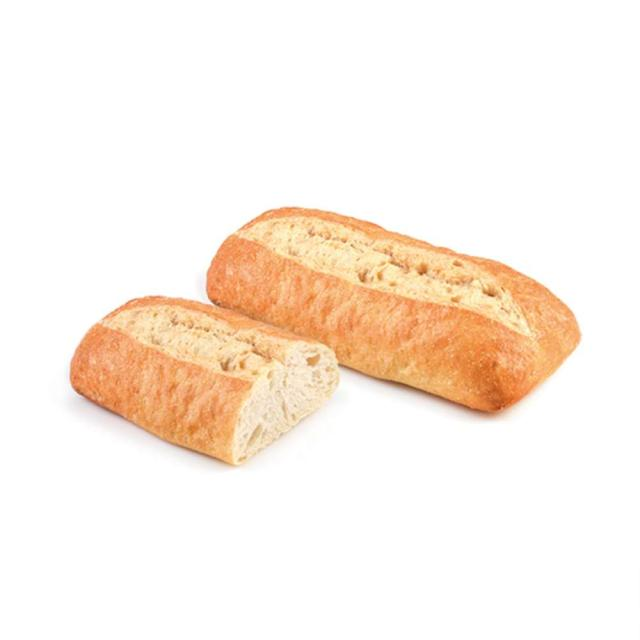Ciabatta: (207, 207, 580, 412), (70, 297, 339, 465)
